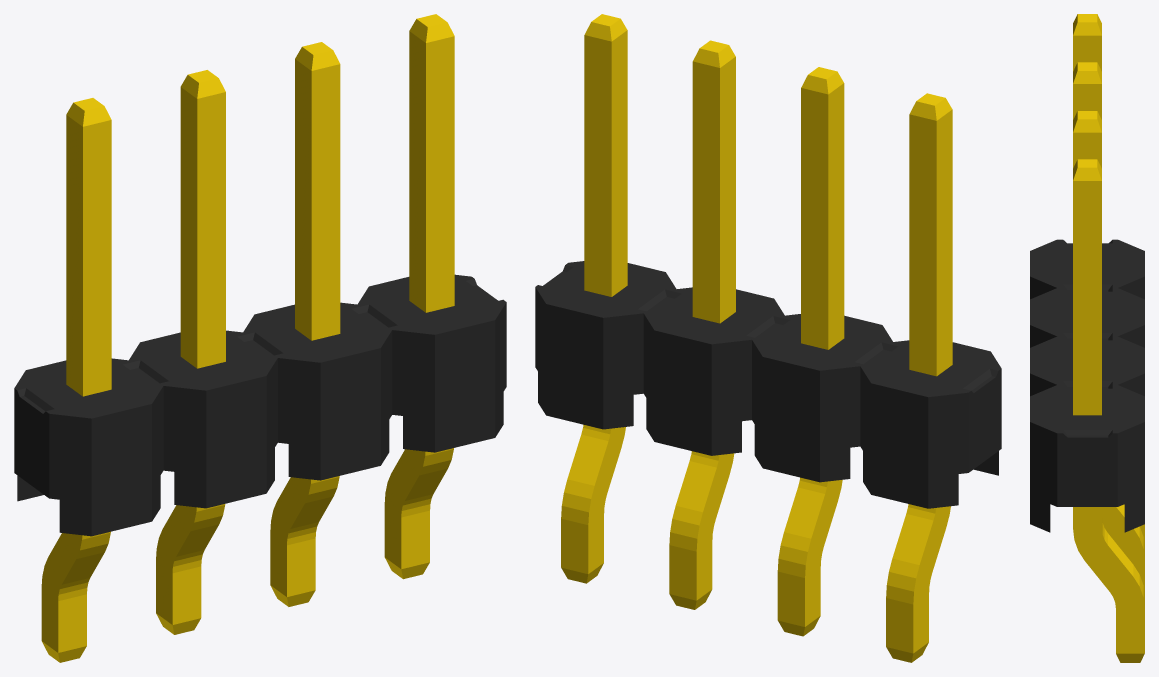
File: DS1025 (PLS-04T CONNFLY).obj
The picture shows the model from 3 angles, left to right: view 1: azimuth 30°, elevation 25°; view 2: azimuth 150°, elevation 25°; view 3: azimuth 270°, elevation 25°; orthographic projection. The views are drawn at different scales.
Parts seen in each view (by area): view 1: DS1025_(PLS-04T_CONNFLY); view 2: DS1025_(PLS-04T_CONNFLY); view 3: DS1025_(PLS-04T_CONNFLY).
Part boxes in pixels (box(x1,y1,x2,y2)): DS1025_(PLS-04T_CONNFLY): box(14, 14, 506, 662); DS1025_(PLS-04T_CONNFLY): box(535, 14, 1001, 662); DS1025_(PLS-04T_CONNFLY): box(1030, 14, 1144, 662).
Size of the model in its own units: 0.0165 by 0.0196 by 0.00412.
